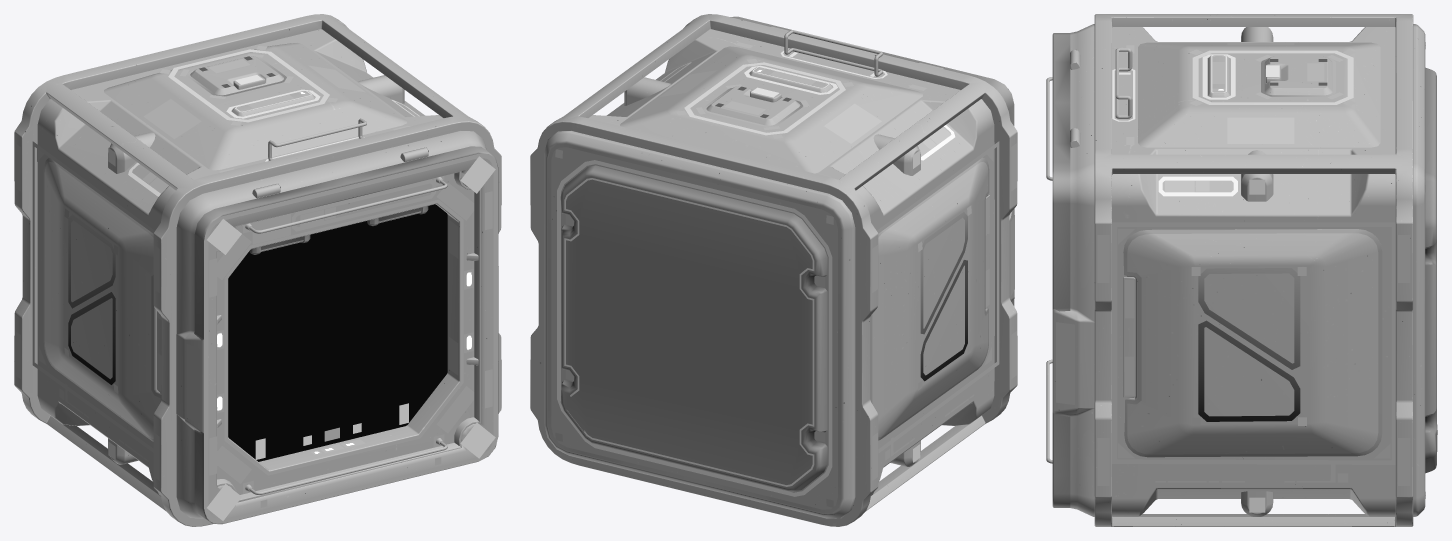
File: SM_CargoContainer_2_Merged.fbx
3 renders of one model, left to right at view 1: azimuth 30°, elevation 25°; view 2: azimuth 150°, elevation 25°; view 3: azimuth 270°, elevation 25°, orthographic. The views are drawn at different scales.
Parts seen in each view (by area): view 1: SM_CargoContainer_2_Merged_LOD0; view 2: SM_CargoContainer_2_Merged_LOD0; view 3: SM_CargoContainer_2_Merged_LOD0.
Boxes of the visible parts, x1,y1,x2,y2 form: SM_CargoContainer_2_Merged_LOD0: (14, 14, 501, 526); SM_CargoContainer_2_Merged_LOD0: (530, 14, 1017, 526); SM_CargoContainer_2_Merged_LOD0: (1046, 14, 1437, 526).
Size of the model in its own units: 330 by 303 by 329.
